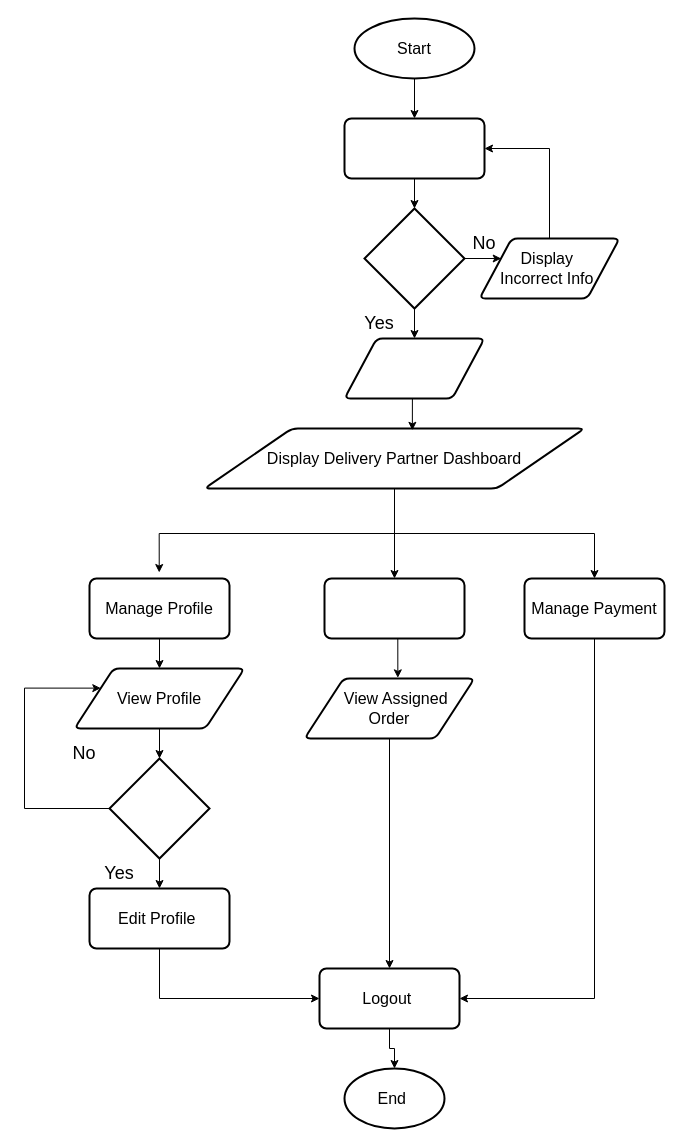
Some shapes in this 683 by 1146 pixel diagram are drawn without their labels. The shapes that lost their labels are listed below. From the top down, each one's centre as x and y in pixels, then its label:
pixel 414 148: Login
pixel 414 258: Valid ?
pixel 414 368: Display Successfully
pixel 394 608: Manage Order
pixel 159 808: Wants To Edit ?
